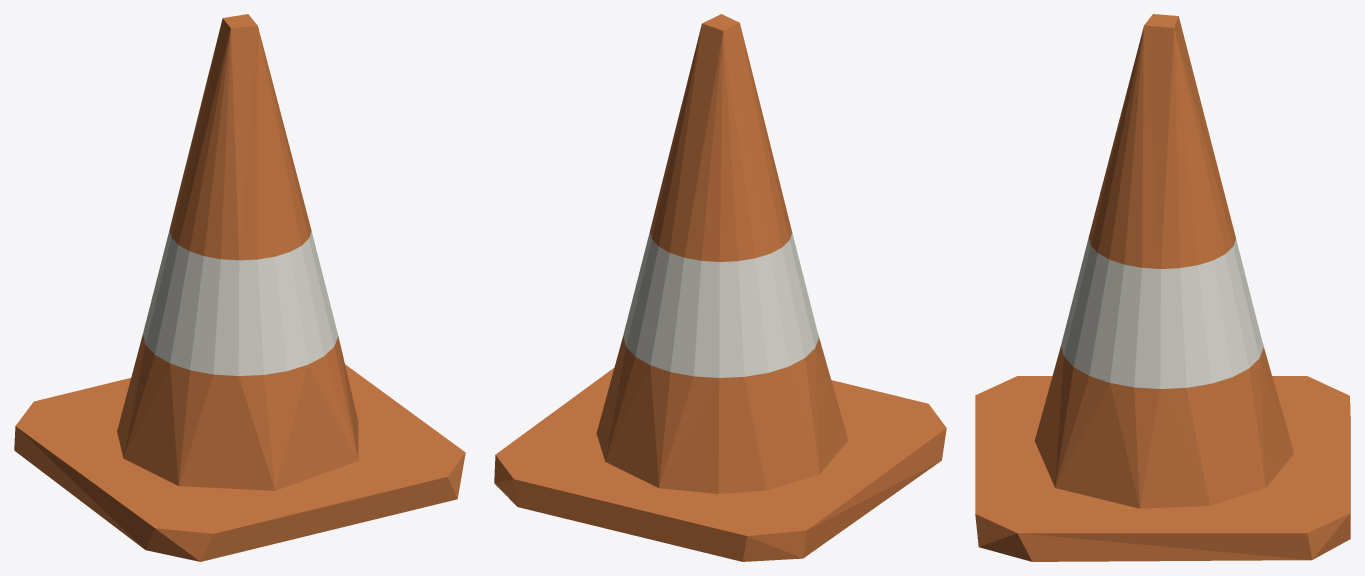
The model's file is cone_orange.dae.
The picture shows the model from 3 angles, left to right: view 1: azimuth 30°, elevation 25°; view 2: azimuth 150°, elevation 25°; view 3: azimuth 270°, elevation 25°; orthographic projection. The views are drawn at different scales.
Visible parts, largest first — view 1: node; view 2: node; view 3: node.
Part boxes in pixels (x1,y1,x2,y2): node: (14, 14, 465, 561); node: (494, 14, 946, 561); node: (975, 14, 1350, 561).
Size of the model in its own units: 0.2254 by 0.224 by 0.3034.
